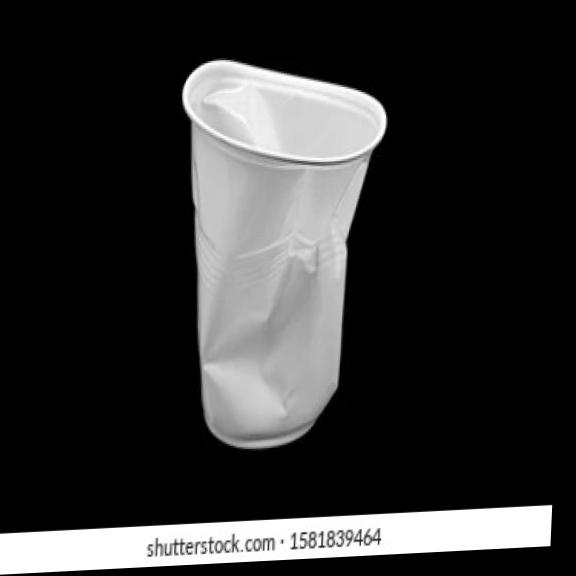Plastik: (182, 60, 386, 448)
